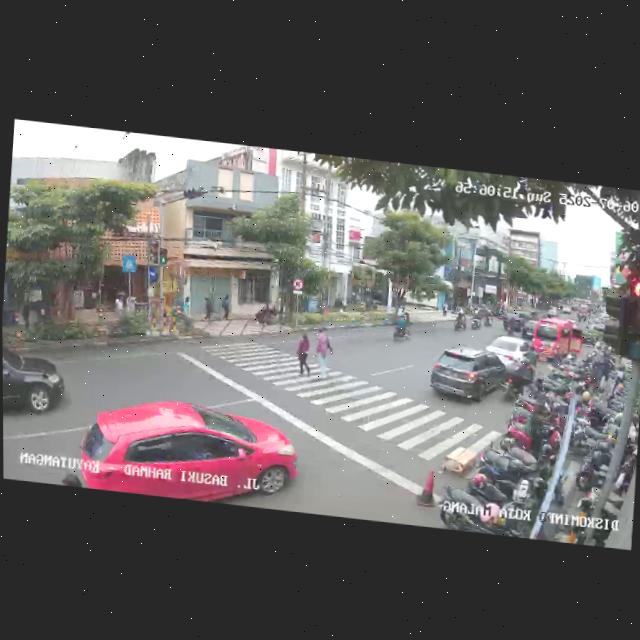car: (74, 391, 299, 511), (426, 343, 519, 410), (3, 341, 68, 427), (532, 317, 585, 366), (485, 334, 537, 375), (501, 310, 526, 337), (521, 319, 538, 339)
motorcycle: (500, 354, 525, 400), (517, 344, 540, 384), (390, 311, 411, 344), (453, 308, 468, 334), (470, 309, 481, 332), (483, 308, 494, 328)
person: (286, 328, 314, 378), (312, 325, 336, 379)
